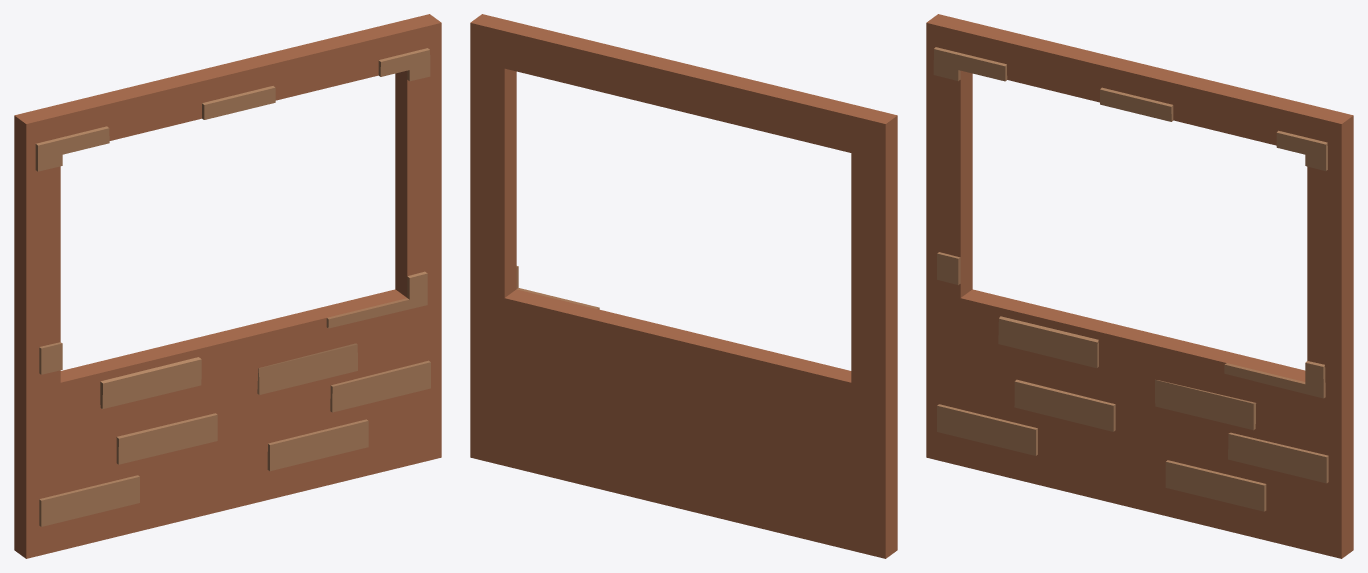
File: BrickV3WindowFrame.fbx
3 views of the same model, side by side, from view 1: azimuth 30°, elevation 25°; view 2: azimuth 150°, elevation 25°; view 3: azimuth 330°, elevation 25° (orthographic).
Visible parts, largest first — view 1: BrickV3WindowFrame; view 2: BrickV3WindowFrame; view 3: BrickV3WindowFrame.
Part boxes in pixels (x1,y1,x2,y2): BrickV3WindowFrame: [14, 14, 441, 558]; BrickV3WindowFrame: [470, 14, 897, 558]; BrickV3WindowFrame: [926, 14, 1353, 558].
Bounding box in the file's own units: 200 × 200 × 11.75.
